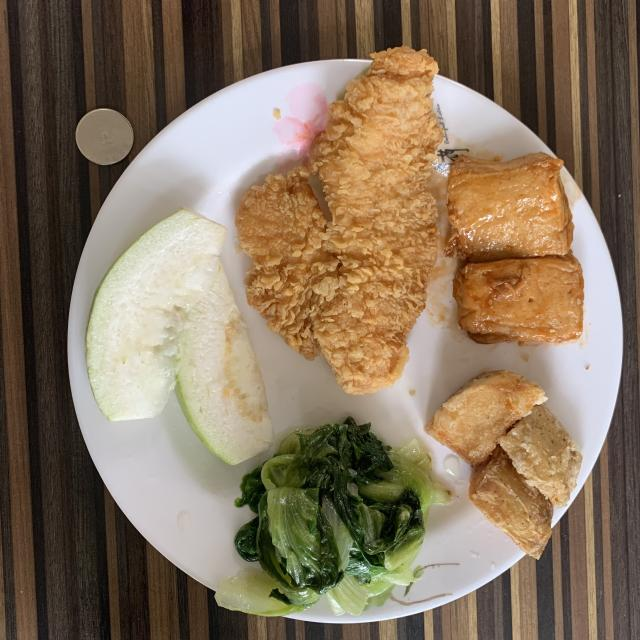coin: (75, 109, 134, 165)
creamy tofu: (446, 152, 584, 344)
fried chicken cutlet: (236, 48, 444, 394)
fried potato: (425, 370, 582, 558)
guava -sliced-: (86, 209, 272, 464)
mustard greens: (216, 418, 439, 616)
